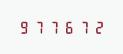nine: (17, 20, 30, 34)
seven: (31, 20, 44, 34), (46, 20, 59, 34), (74, 20, 87, 34)
six: (60, 20, 73, 34)
two: (88, 20, 101, 34)
